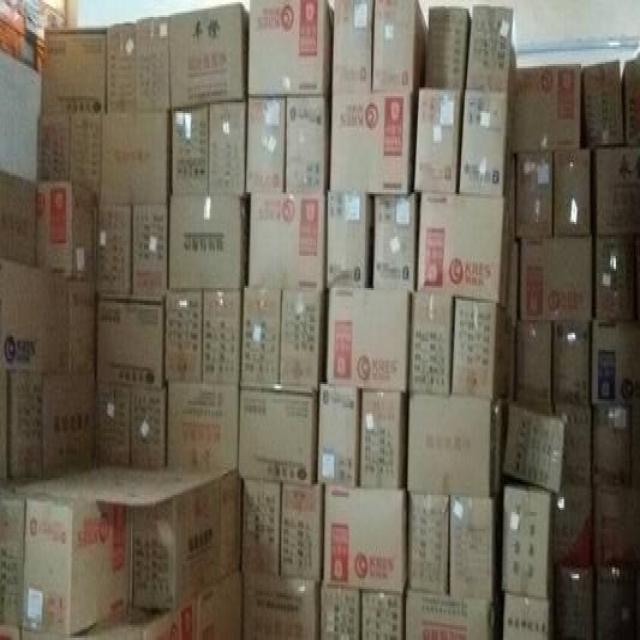box: (17, 467, 239, 610), (23, 493, 133, 638), (418, 194, 513, 311), (407, 393, 497, 497), (323, 484, 407, 591), (327, 288, 412, 393), (330, 92, 417, 192), (169, 4, 249, 111), (238, 386, 317, 489), (0, 258, 71, 371), (249, 0, 331, 96), (249, 192, 327, 292), (168, 196, 247, 290), (96, 294, 166, 388), (453, 297, 516, 401), (100, 111, 168, 205), (36, 181, 98, 279), (520, 237, 593, 320), (167, 382, 238, 467), (42, 371, 97, 478), (513, 66, 581, 151), (502, 486, 554, 595), (504, 401, 564, 495), (41, 28, 104, 115), (0, 51, 41, 179), (459, 90, 508, 196), (372, 0, 427, 94), (244, 572, 319, 640), (413, 90, 462, 192), (279, 290, 327, 393), (409, 290, 453, 395), (360, 390, 406, 489), (449, 495, 492, 597), (406, 591, 494, 640), (373, 194, 417, 290), (327, 190, 371, 286), (317, 384, 359, 484), (465, 4, 513, 90), (286, 96, 329, 192), (280, 484, 323, 580), (239, 478, 281, 576), (240, 288, 281, 388), (408, 493, 448, 593), (7, 371, 43, 482), (592, 322, 640, 405), (594, 149, 640, 235), (593, 486, 640, 570), (331, 0, 372, 94), (246, 96, 286, 192), (424, 6, 471, 87), (596, 237, 640, 320), (0, 169, 36, 269), (208, 102, 247, 194), (202, 290, 241, 382), (582, 62, 624, 147), (196, 570, 243, 640), (166, 292, 202, 382), (596, 567, 640, 640), (132, 201, 167, 292), (554, 149, 591, 235), (518, 149, 554, 237), (552, 322, 591, 403), (172, 107, 208, 194), (96, 205, 132, 292), (131, 386, 167, 471), (136, 17, 168, 111), (593, 407, 632, 484), (96, 382, 130, 467), (516, 322, 552, 401), (106, 21, 136, 113), (70, 113, 101, 194), (70, 279, 96, 371), (503, 591, 549, 640), (319, 585, 359, 640), (361, 589, 403, 640), (37, 115, 68, 179)
